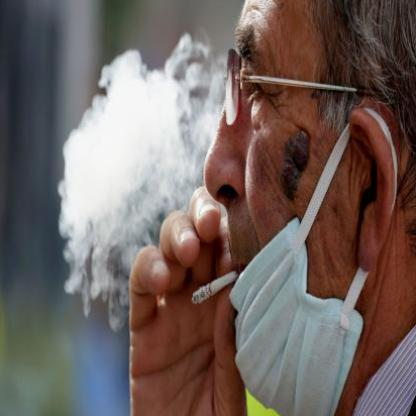cigarette: (192, 272, 236, 306)
person: (204, 0, 415, 415)
smoke: (56, 38, 225, 216), (58, 207, 129, 328)
